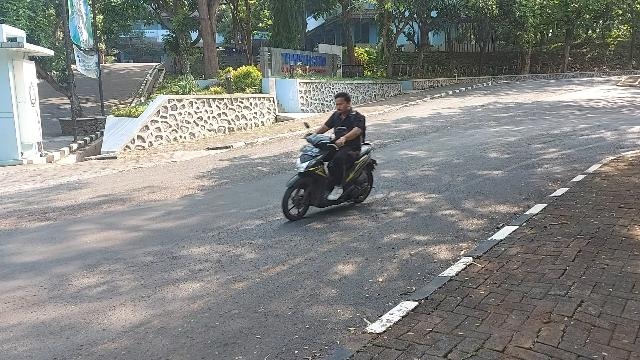motor: (284, 123, 379, 222), (336, 94, 353, 113)
